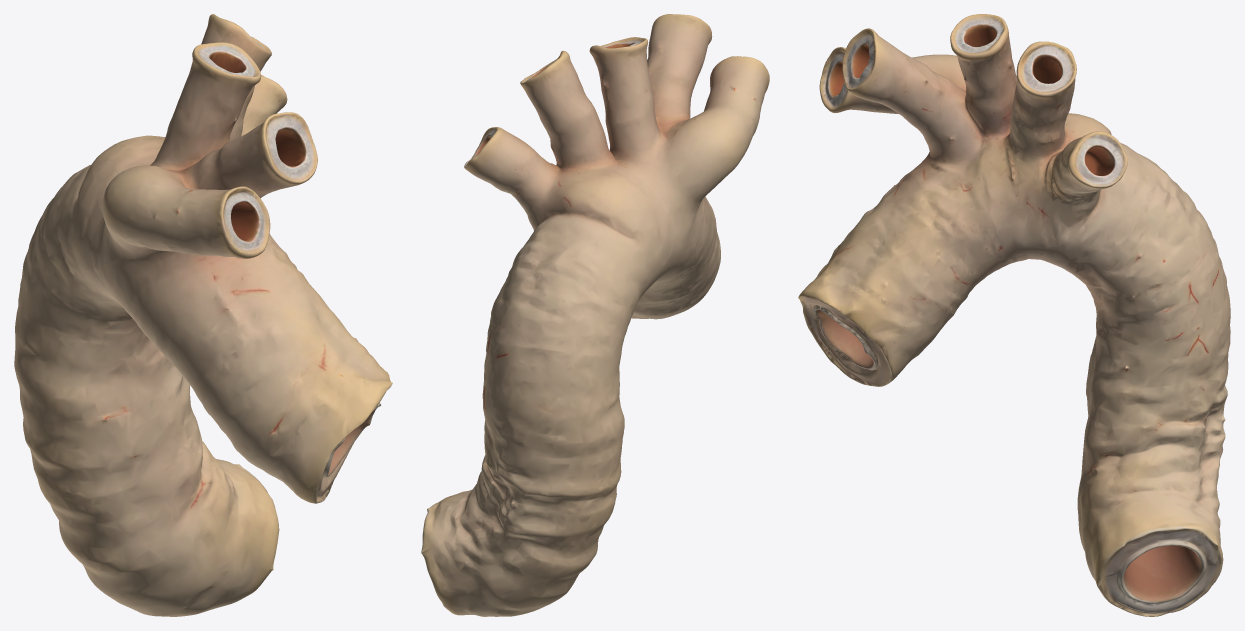
Rendered from aortic-arch.glb.
The picture shows the model from 3 angles, left to right: view 1: azimuth 30°, elevation 25°; view 2: azimuth 150°, elevation 25°; view 3: azimuth 270°, elevation 25°; orthographic projection. The views are drawn at different scales.
Parts seen in each view (by area): view 1: tripo_node_bf2acd6a-ad56-43e0-a2ec-7feaa1e362cb; view 2: tripo_node_bf2acd6a-ad56-43e0-a2ec-7feaa1e362cb; view 3: tripo_node_bf2acd6a-ad56-43e0-a2ec-7feaa1e362cb.
Boxes of the visible parts, <box> form: tripo_node_bf2acd6a-ad56-43e0-a2ec-7feaa1e362cb: <box>14,14,392,616</box>; tripo_node_bf2acd6a-ad56-43e0-a2ec-7feaa1e362cb: <box>421,14,769,616</box>; tripo_node_bf2acd6a-ad56-43e0-a2ec-7feaa1e362cb: <box>798,14,1230,616</box>.
Bounding box in the file's own units: 0.4221 × 0.9999 × 0.7086.
Materials: 1 (1 with a texture image).
